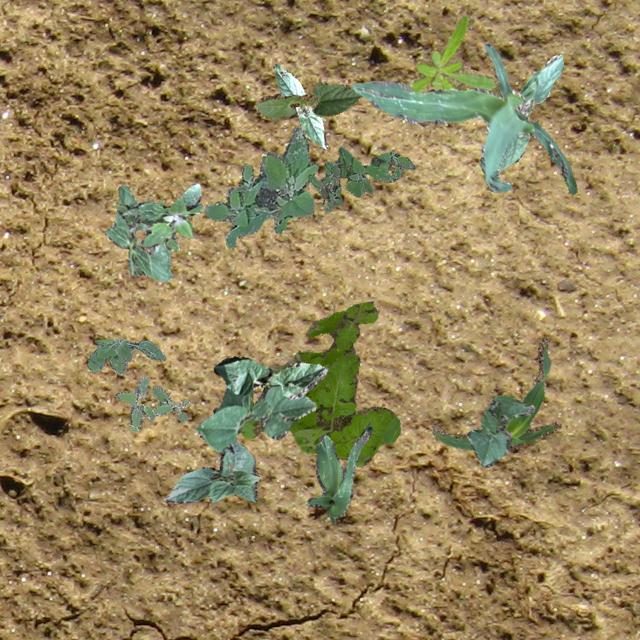crop: (350, 43, 576, 194), (430, 336, 560, 448), (194, 384, 316, 454), (494, 54, 562, 174), (306, 422, 372, 522), (104, 184, 172, 280), (162, 441, 260, 502), (466, 394, 534, 466), (212, 356, 326, 398), (272, 63, 326, 148), (252, 80, 362, 118)
weed: (238, 300, 400, 466), (202, 125, 316, 248), (404, 13, 496, 92), (306, 146, 414, 210), (114, 182, 202, 250), (114, 376, 188, 432), (86, 338, 164, 374)
